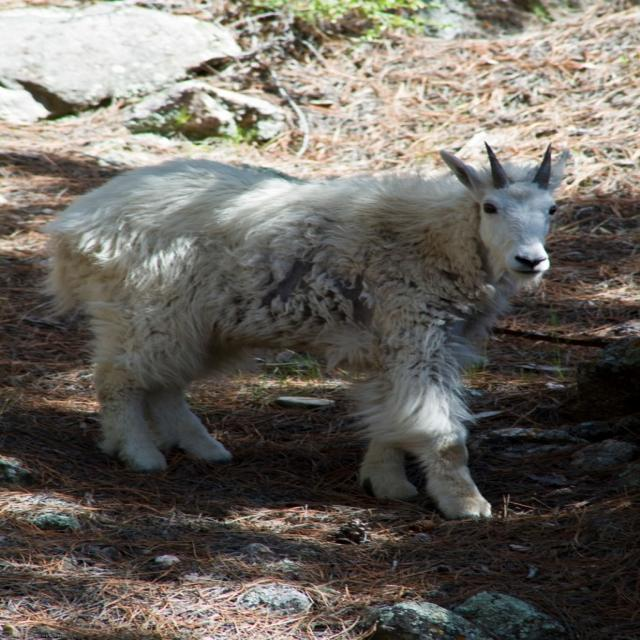Sheep: (36, 140, 640, 522)
